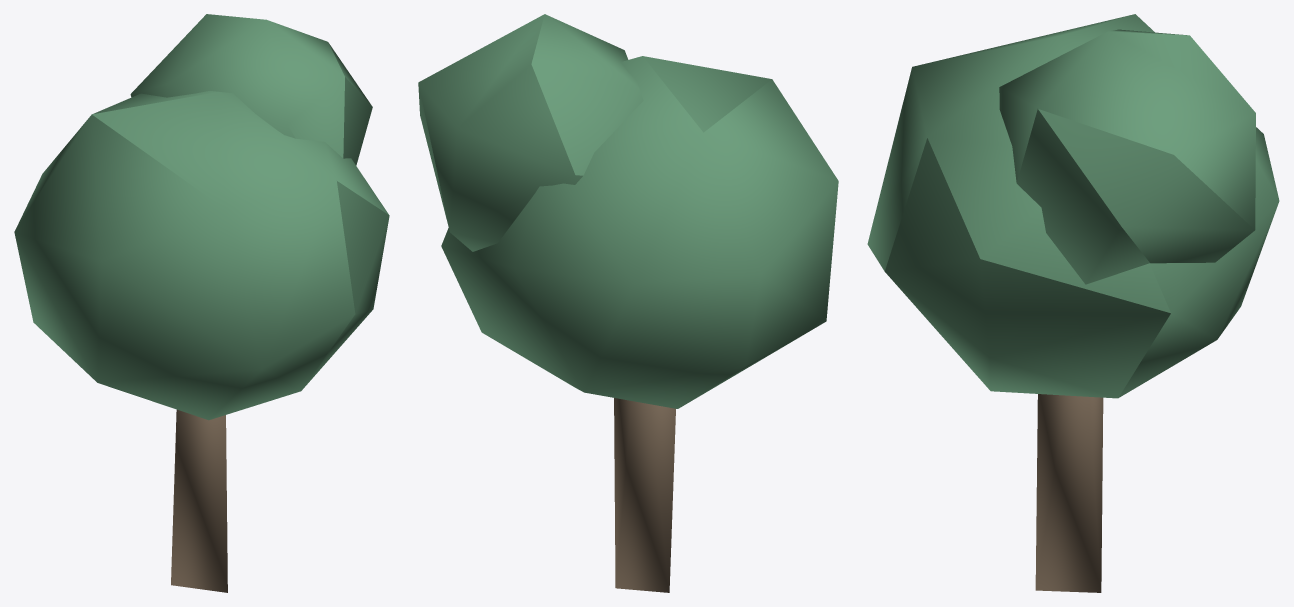
The model's file is SM_Kurpark_Tree_LOD3.fbx.
3 views of the same model, side by side, from view 1: azimuth 30°, elevation 25°; view 2: azimuth 150°, elevation 25°; view 3: azimuth 270°, elevation 25° (orthographic). The views are drawn at different scales.
Parts seen in each view (by area): view 1: SM_Kurpark_Tree_LOD3; view 2: SM_Kurpark_Tree_LOD3; view 3: SM_Kurpark_Tree_LOD3.
Boxes of the visible parts, x1,y1,x2,y2 form: SM_Kurpark_Tree_LOD3: (14,14,389,592); SM_Kurpark_Tree_LOD3: (418,14,838,592); SM_Kurpark_Tree_LOD3: (867,14,1279,592).
Size of the model in its own units: 3.19 by 4.76 by 2.97.
